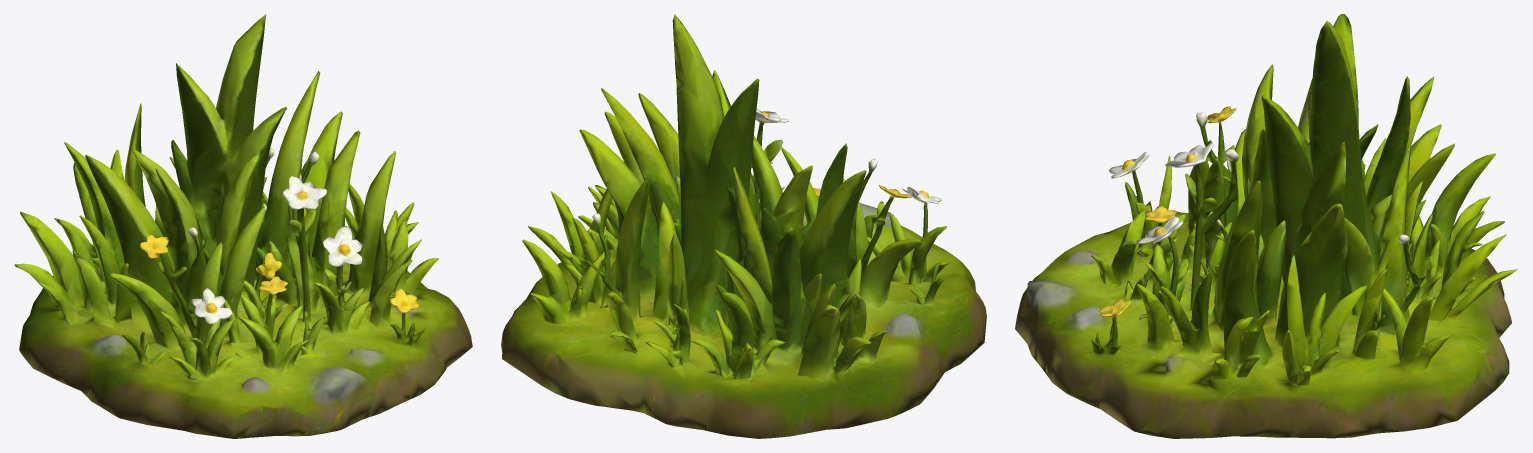
Rendered from grass-tuft.glb.
The picture shows the model from 3 angles, left to right: view 1: azimuth 30°, elevation 25°; view 2: azimuth 150°, elevation 25°; view 3: azimuth 270°, elevation 25°; orthographic projection. The views are drawn at different scales.
Bounding box in the file's own units: 1.87 × 1.44 × 1.91.
1 material, 1 textured.
